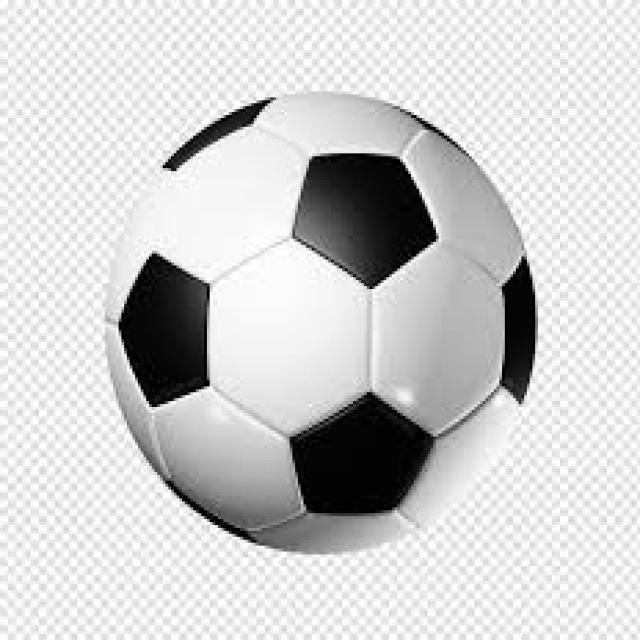football: (108, 92, 540, 560)
